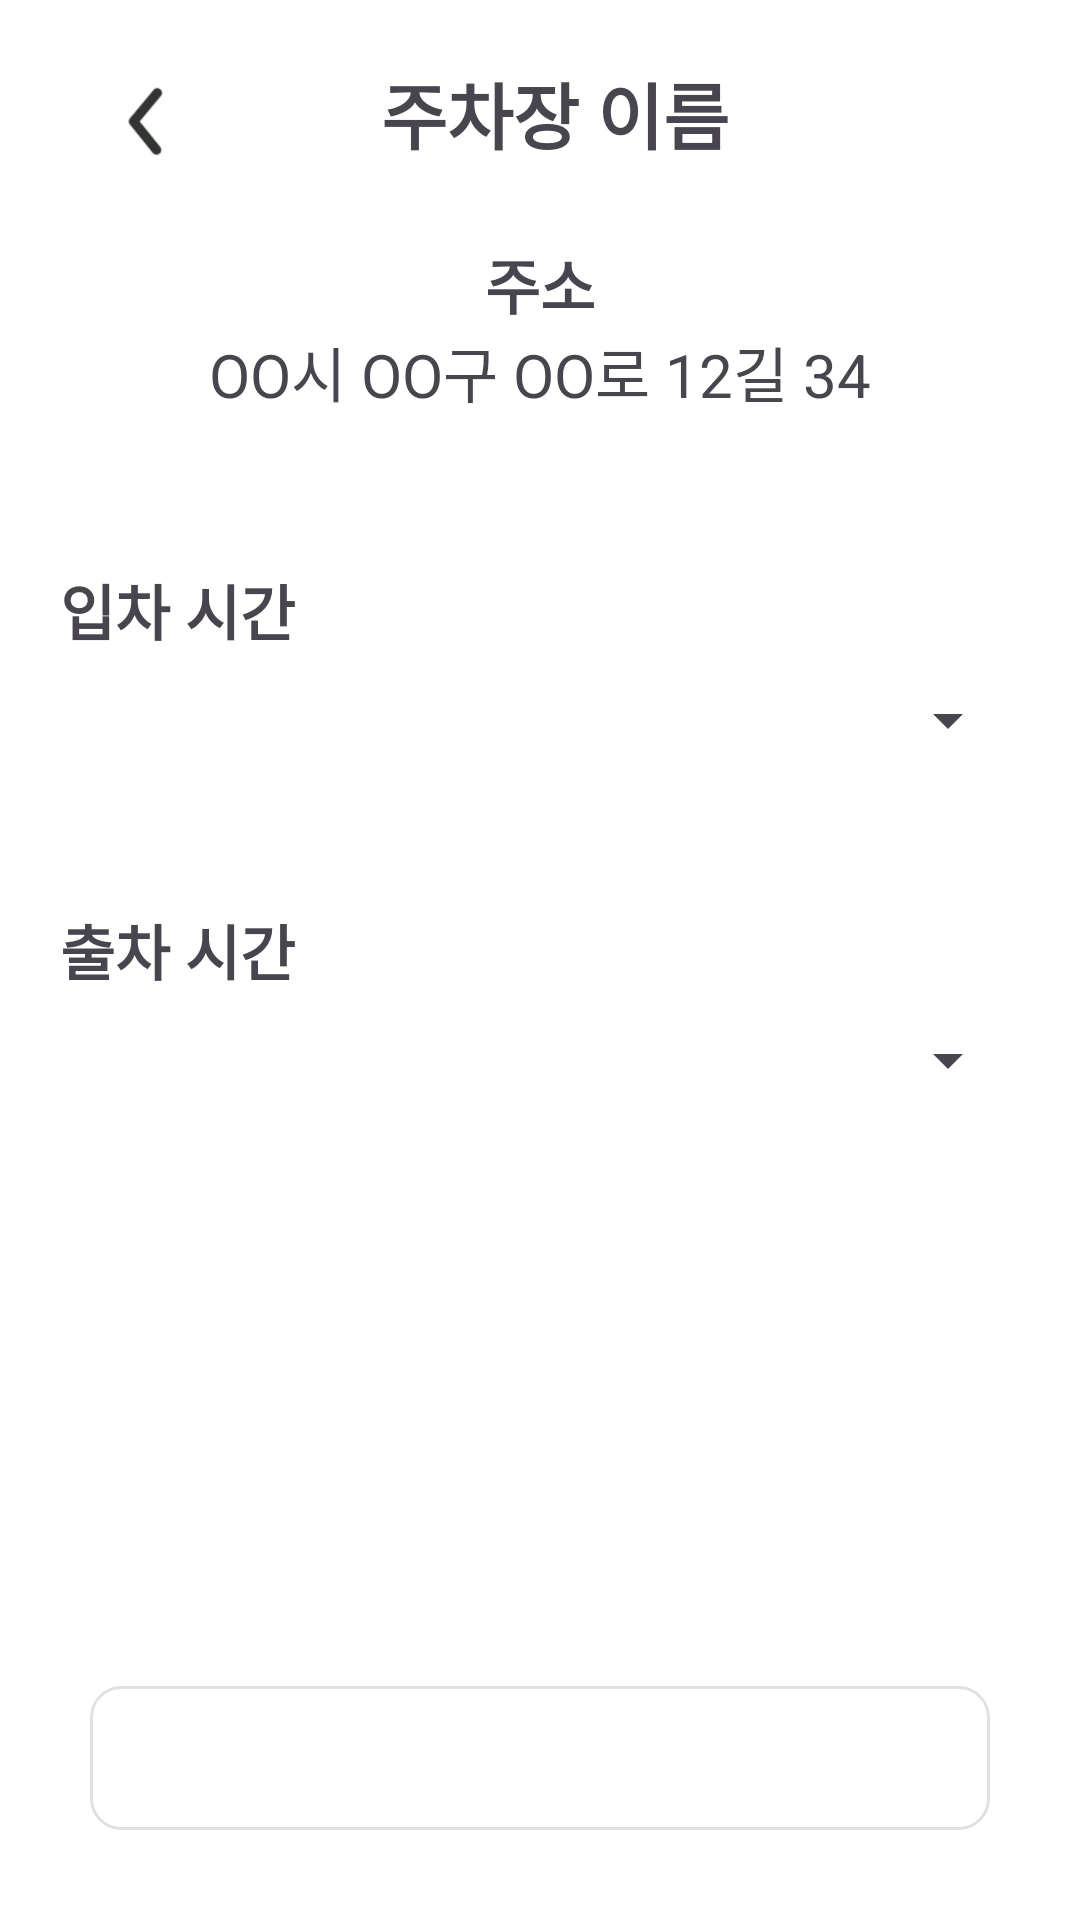

Where to tap for icons on this 1080w x 1920h app screen, as (x=x, y=y):
Back button: (x=145, y=121)
